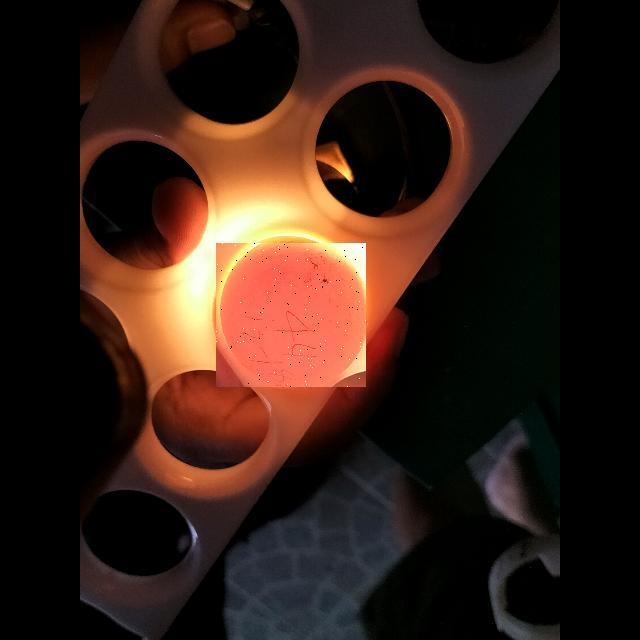Infertile: (216, 243, 366, 387)
